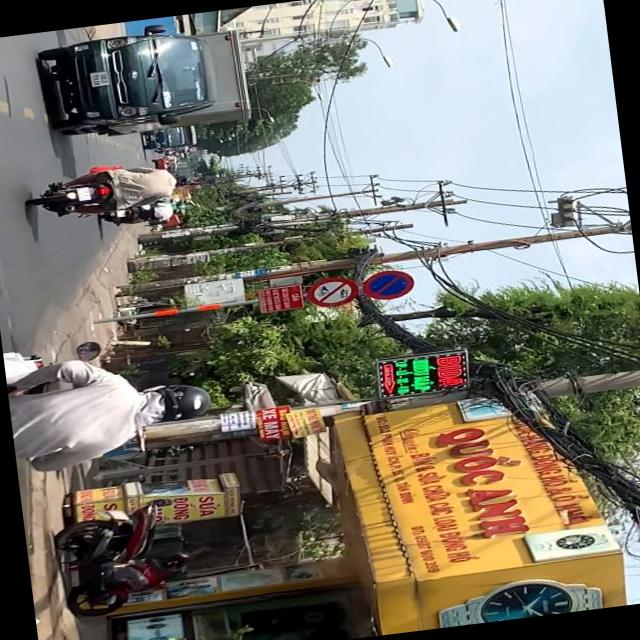P-131a: (360, 268, 414, 302)
